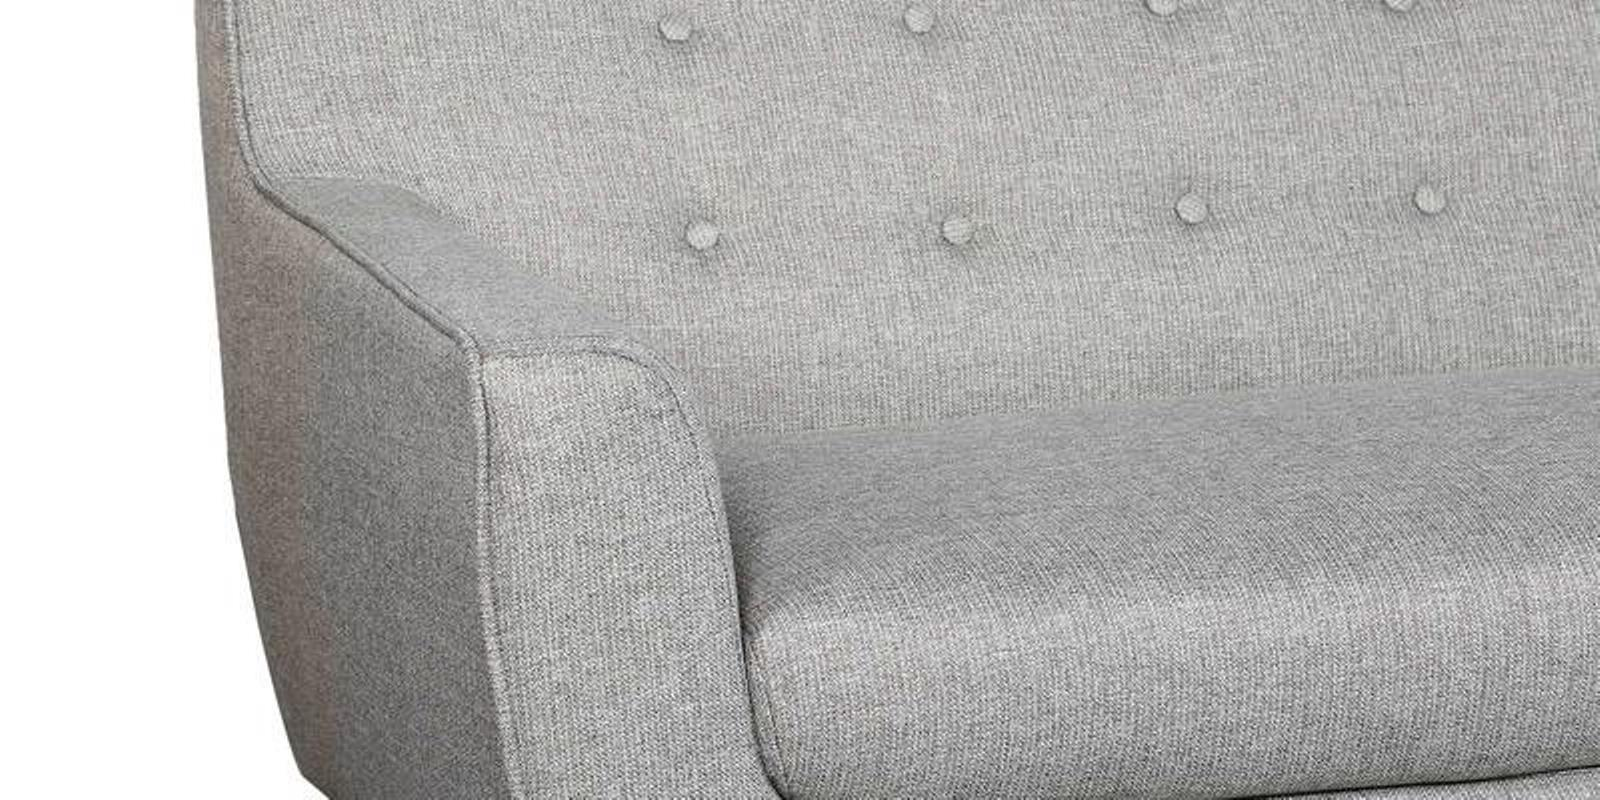Bogota Three Seater Sofa in Grey Colour by CasaCraft: (181, 8, 1566, 745)
